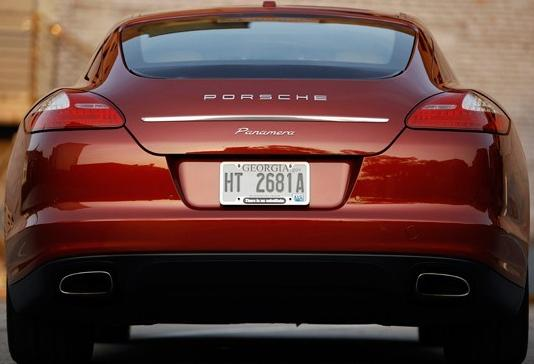back_view: (19, 87, 521, 347)
backlight: (399, 85, 515, 153)
